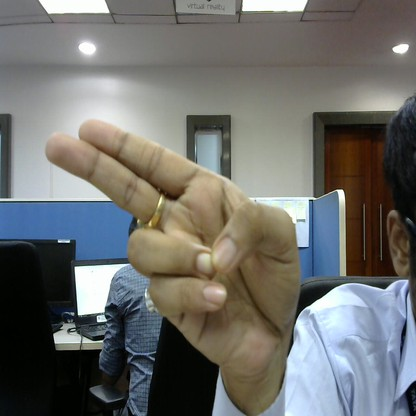h: (39, 107, 307, 382)
